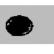correct: (4, 14, 36, 37)
